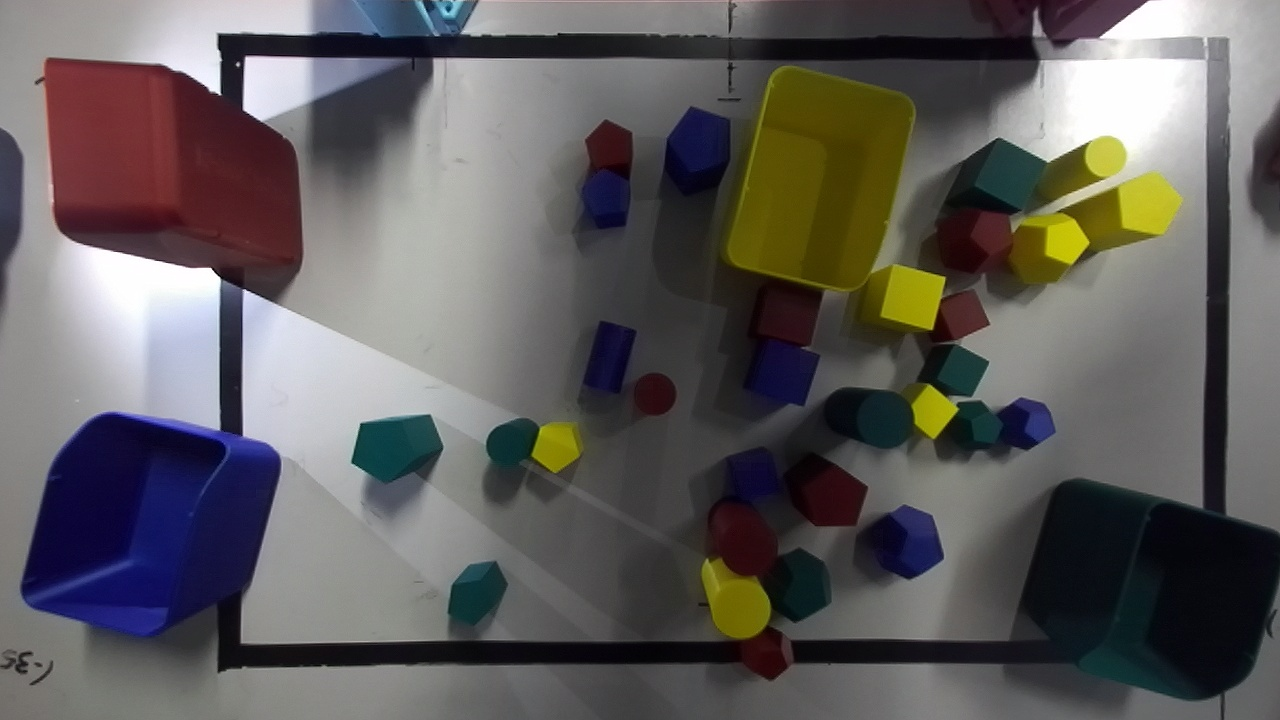bin: (43, 58, 302, 298), (21, 412, 279, 635), (1022, 479, 1279, 699), (725, 66, 914, 290)
cube: (945, 138, 1046, 213), (858, 264, 944, 330), (748, 279, 823, 346), (744, 339, 819, 405), (917, 343, 988, 395), (900, 383, 956, 438), (931, 289, 989, 342), (726, 447, 780, 500)
cylinder: (1035, 136, 1126, 207), (701, 558, 770, 639), (823, 387, 912, 448), (708, 497, 777, 575), (583, 321, 636, 393), (486, 418, 539, 465), (634, 373, 676, 415)
dodecahedron: (1008, 213, 1088, 283), (870, 505, 943, 578), (762, 548, 831, 621), (937, 209, 1011, 273), (998, 397, 1055, 449), (740, 626, 793, 679), (947, 400, 1001, 449)
hexagonal: (1063, 171, 1181, 251), (351, 414, 442, 482), (784, 452, 867, 525), (665, 107, 729, 194), (447, 561, 507, 625), (581, 169, 629, 228), (585, 119, 632, 177), (532, 422, 582, 472)
